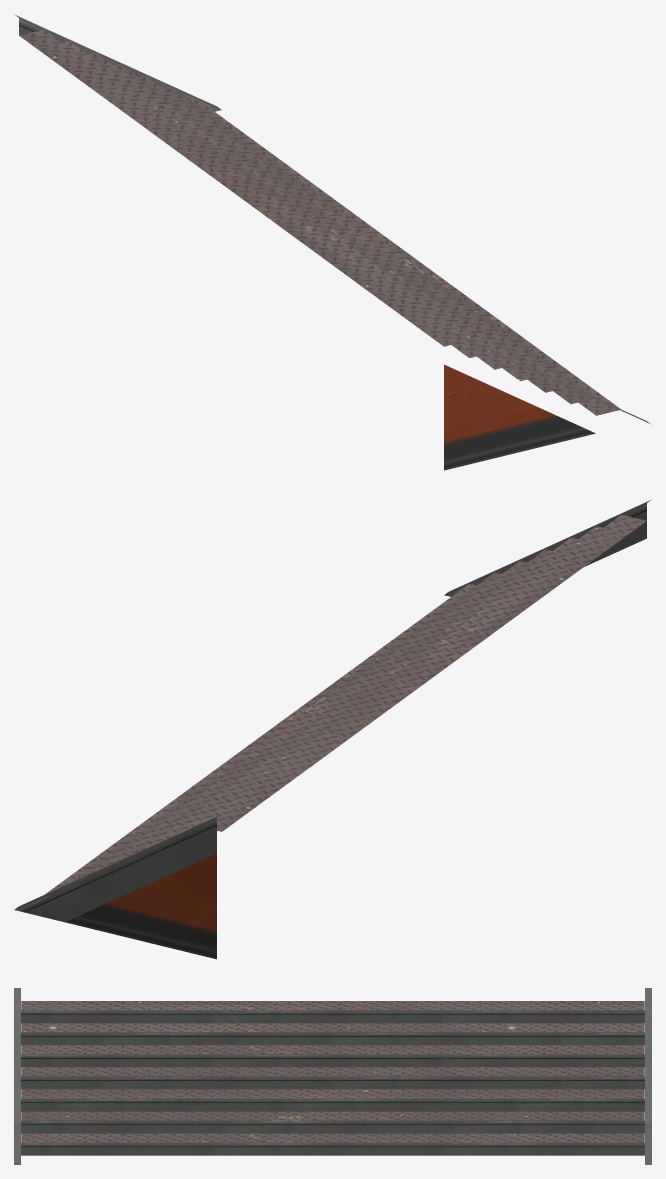
The picture shows the model from 3 angles, top to bottom: view 1: azimuth 30°, elevation 25°; view 2: azimuth 150°, elevation 25°; view 3: azimuth 270°, elevation 25°; orthographic projection. The views are drawn at different scales.
Parts seen in each view (by area): view 1: body0_model0_lod0_mesh1, body0_model0_lod0_mesh2, body0_model0_lod0_mesh0; view 2: body0_model0_lod0_mesh1, body0_model0_lod0_mesh0, body0_model0_lod0_mesh2; view 3: body0_model0_lod0_mesh0, body0_model0_lod0_mesh1.
Boxes of the visible parts, bbox=[...] form: body0_model0_lod0_mesh1: bbox=[19, 29, 620, 415]; body0_model0_lod0_mesh2: bbox=[444, 364, 595, 470]; body0_model0_lod0_mesh0: bbox=[14, 14, 651, 424]; body0_model0_lod0_mesh1: bbox=[45, 514, 646, 894]; body0_model0_lod0_mesh0: bbox=[14, 500, 650, 922]; body0_model0_lod0_mesh2: bbox=[65, 853, 216, 959]; body0_model0_lod0_mesh0: bbox=[14, 988, 651, 1164]; body0_model0_lod0_mesh1: bbox=[21, 1001, 644, 1142].
Size of the model in its own units: 96.01 by 64.01 by 356.
3 materials, 3 textured.
